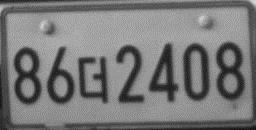0: (182, 42, 210, 100)
2: (114, 43, 145, 104)
4: (146, 42, 179, 103)
6: (45, 45, 75, 104)
8: (215, 41, 246, 100), (12, 47, 42, 104)
더: (76, 54, 109, 104)
